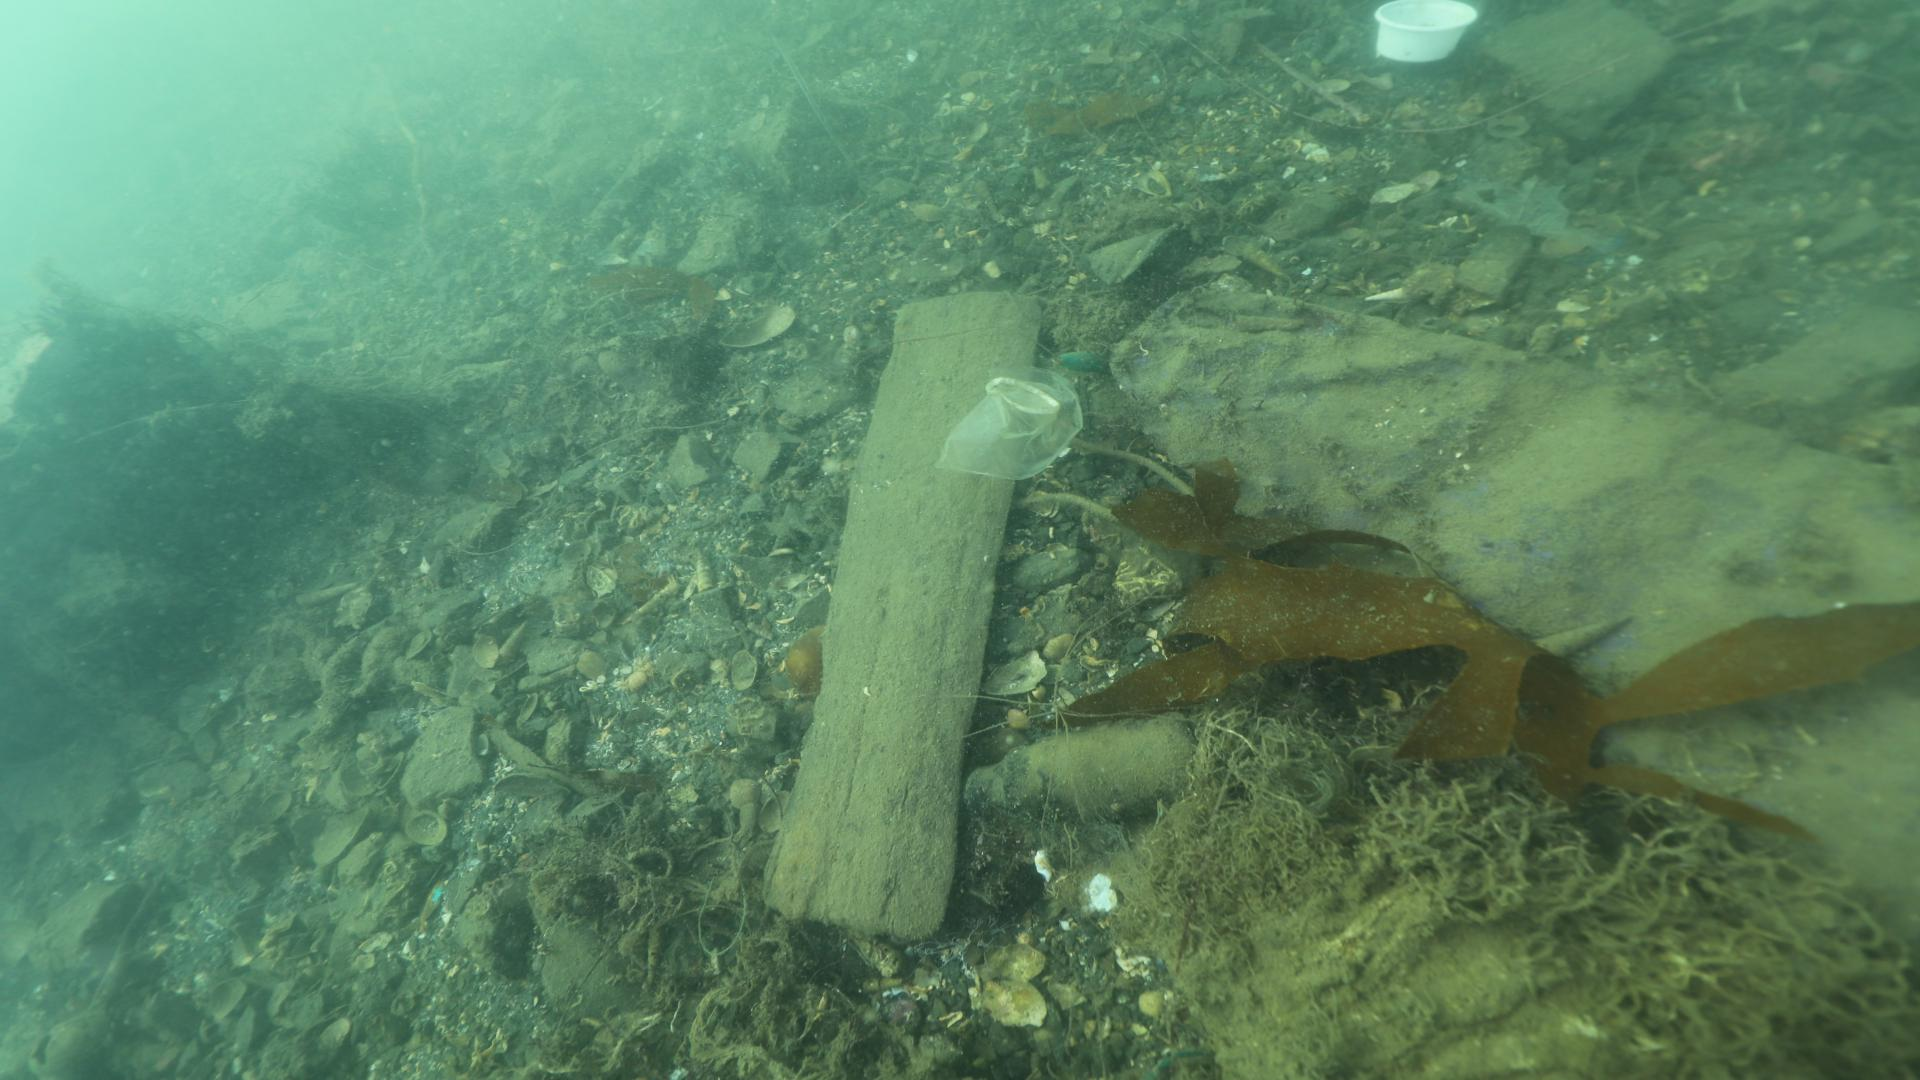wood: (754, 286, 1040, 942)
